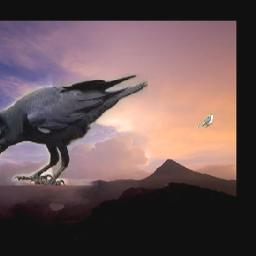Crow: (0, 74, 149, 186)
Cuckoo: (197, 114, 214, 129)
